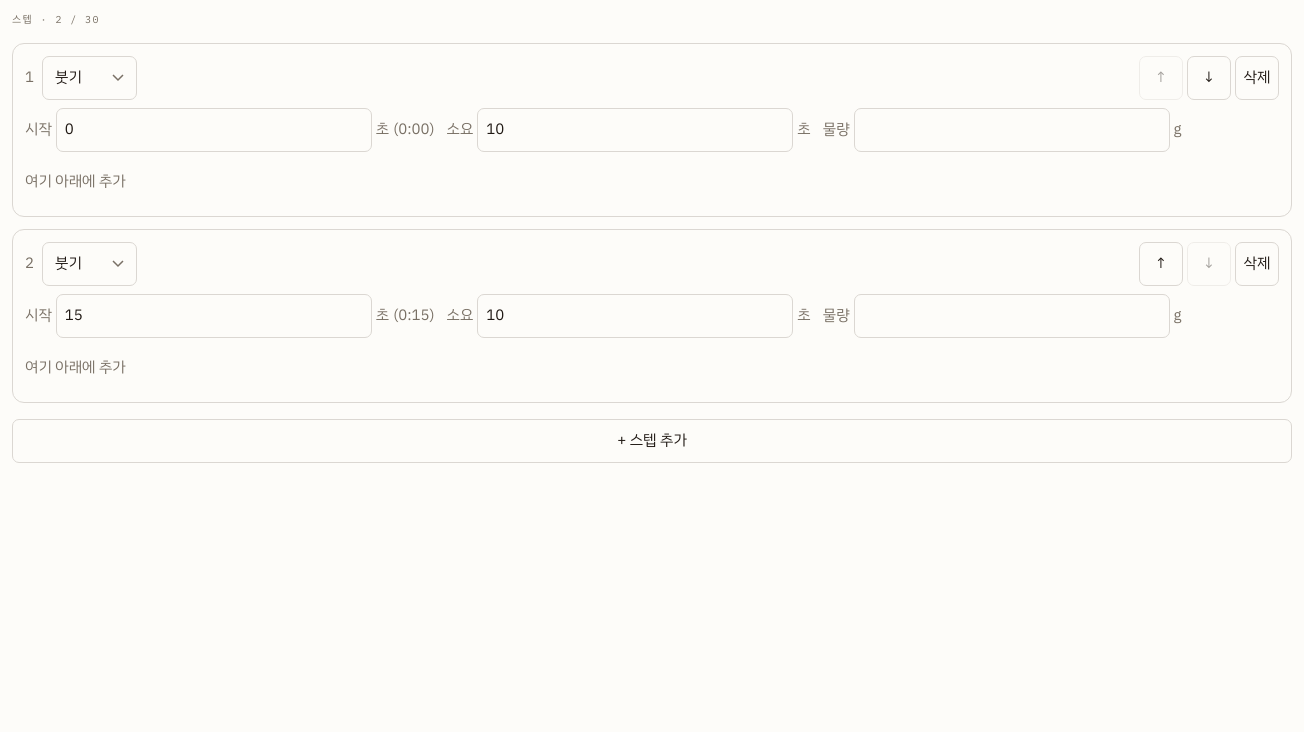
Scenario: RecipeStepEditor › AC-WEBEDIT-14 · 자리가 5초 부족하면 뒤 스텝이 정확히 5초 밀린다
The width and height of the screenshot is (1304, 732).
Click the button with aria-label "스텝 1 아래에 추가". click: click(75, 182)
box: left=25, top=160, right=126, bottom=204
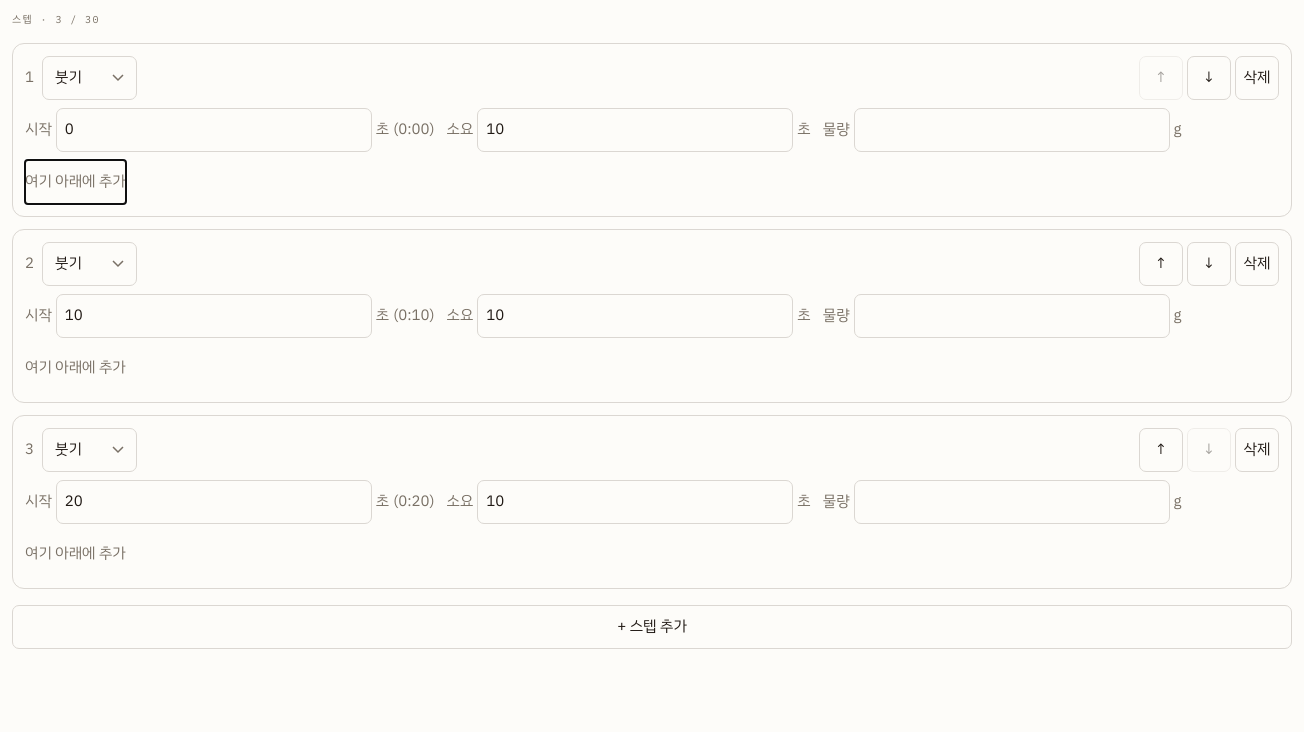
Expected: the number field named "스텝 3 시작" holds "20", left=56, top=480, right=372, bottom=524
